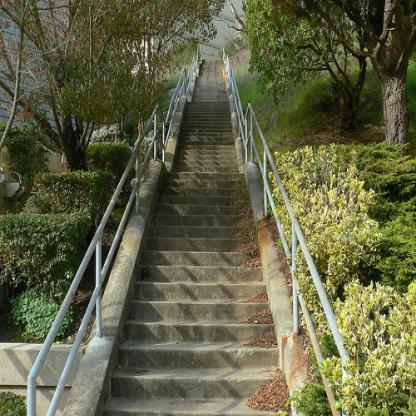stairs: (137, 265, 262, 411)
